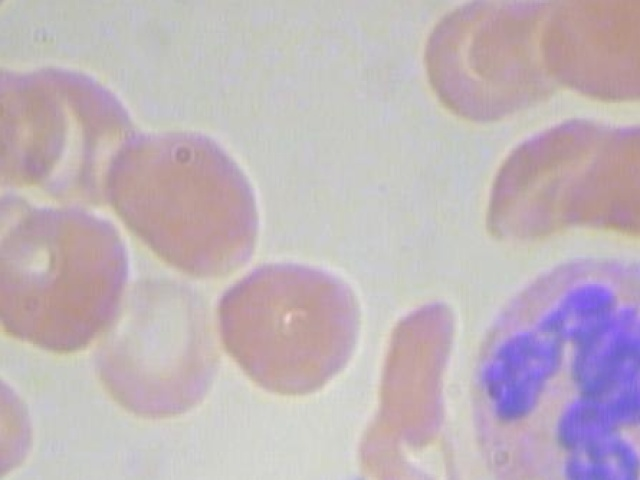Platelets: (322, 473, 383, 480)
RBC: (98, 115, 267, 283), (101, 118, 269, 286), (211, 256, 376, 395), (0, 194, 141, 350), (89, 274, 221, 422), (479, 109, 626, 240), (411, 0, 546, 120), (370, 292, 466, 451), (0, 57, 70, 193), (592, 105, 640, 256), (0, 185, 51, 322), (557, 0, 640, 83), (0, 356, 44, 480), (0, 0, 32, 24)
WBC: (454, 241, 640, 480)
